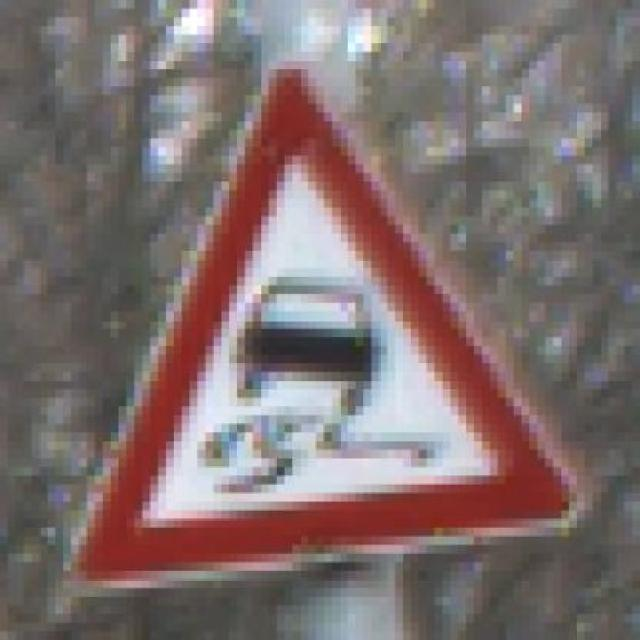Slippery Road Ahead: (54, 67, 575, 578)
